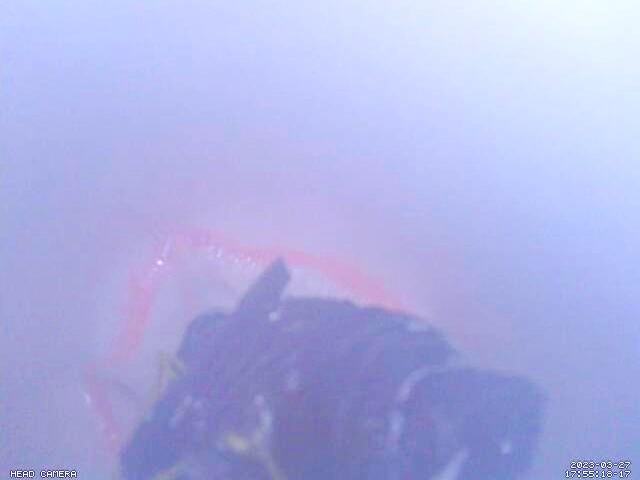head: (80, 224, 407, 458)
